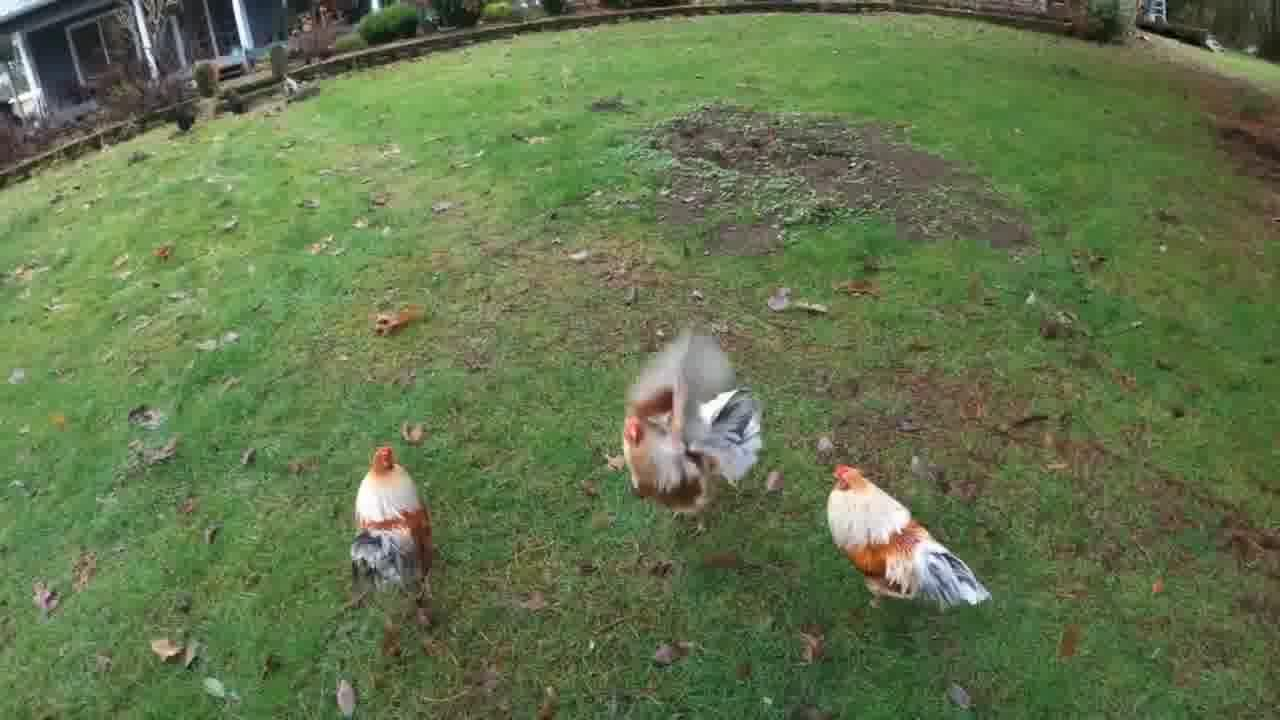Normal: (606, 336, 770, 544), (812, 452, 998, 612), (334, 426, 468, 612)
